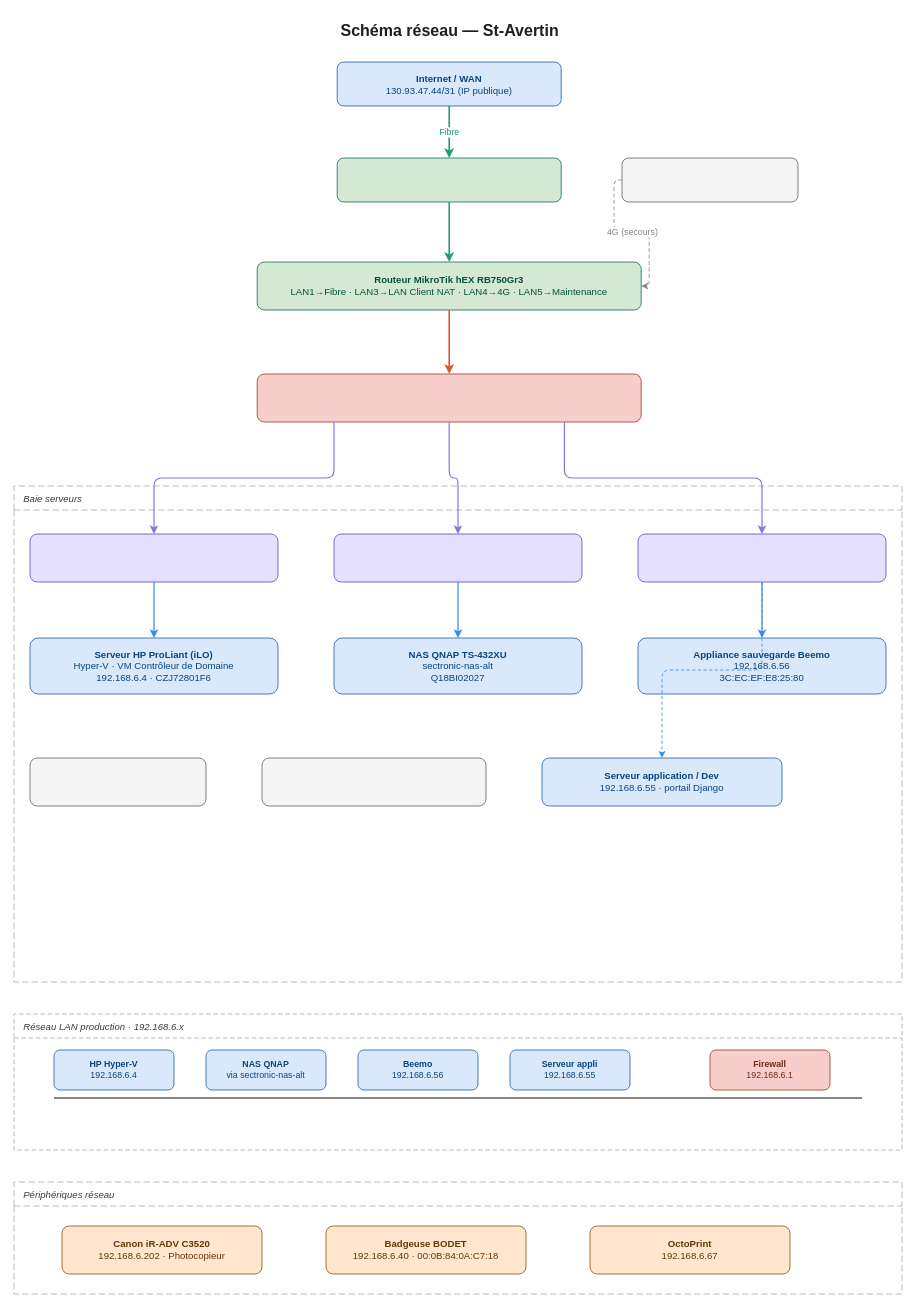
Image size: 916x1308. Some labels were removed from this diagram. Each missing label, with the centre of its shape:
Appliance rack (verrouillée) HMB162 · Étiquette Sectronic: pixel 373 781
Box Internet 4G Free/Zyxel Freebox Pro: pixel 709 179
Firewall Stormshield SNSS-XA10A-101 192.168.6.1 · MAC 00:0D:B4:27:05:35: pixel 448 397
Onduleur DELL Alimentation secourue: pixel 117 781
ONT / Boîtier fibre Nokia G-010G-R: pixel 448 179
Switch NETGEAR GS724T 192.168.6.65 · 24p Gigabit: pixel 761 557
Switch PoE TP-Link TL-SG2424P 192.168.1.19 · 24p PoE Gigabit: pixel 457 557
Switch TP-Link TL-SG3428 192.168.6.66 · 24p Gigabit + 4 SFP: pixel 153 557
